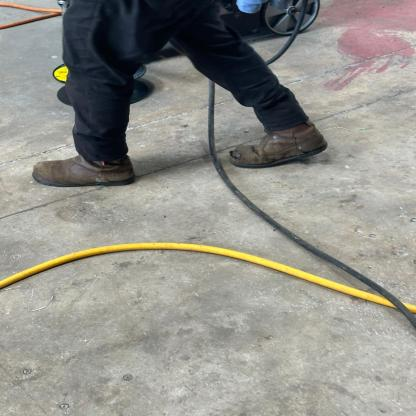bota: (223, 116, 334, 172), (26, 148, 138, 194)
